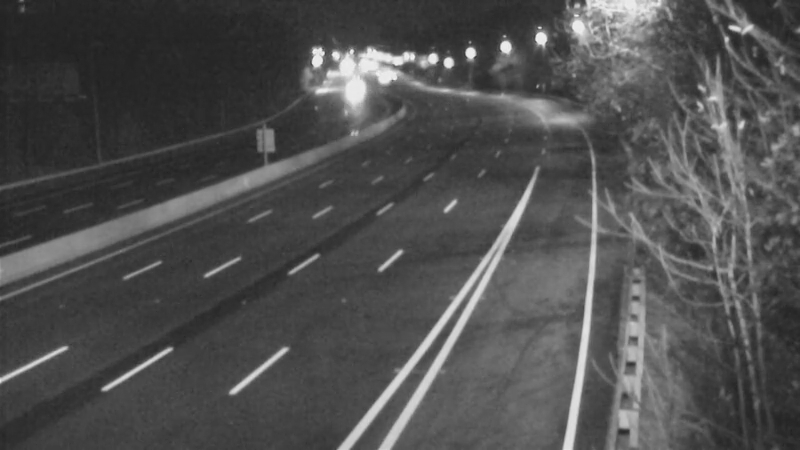vehicle: (324, 71, 374, 121)
